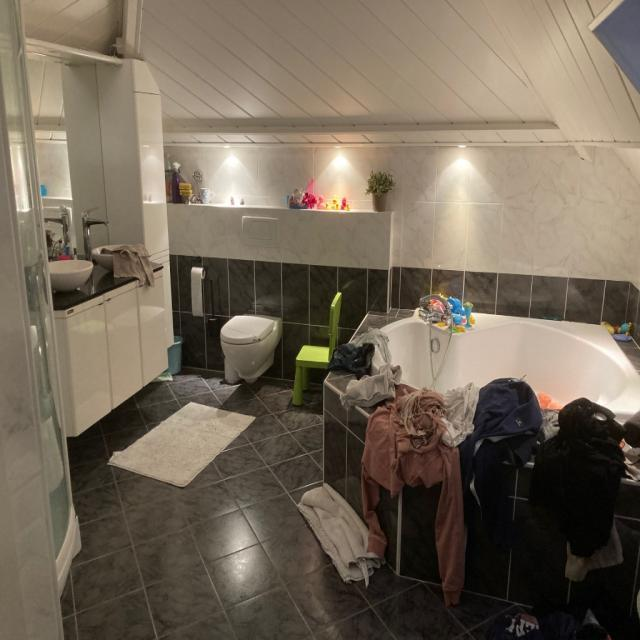bath: (362, 296, 640, 432)
douche: (0, 0, 83, 640)
toilet: (220, 215, 282, 382)
wastafel: (54, 269, 168, 438), (45, 206, 135, 290)
